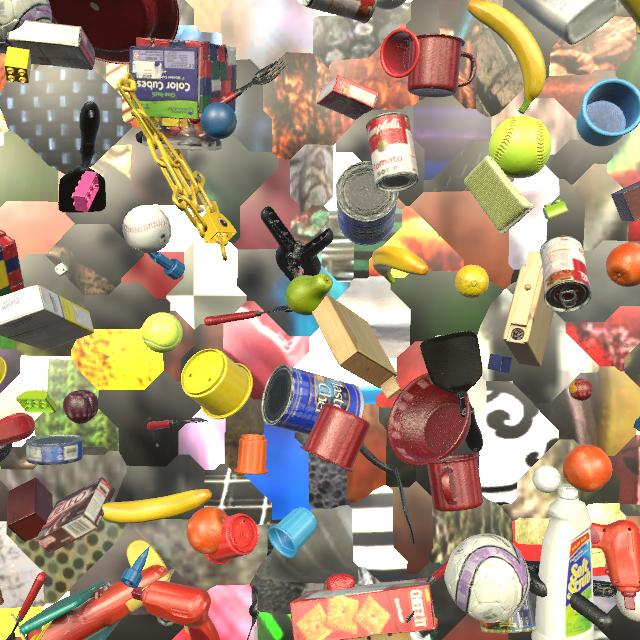ycb_002_master_chef_can: (261, 364, 364, 434), (335, 161, 399, 245)
ycb_003_cracker_box: (290, 578, 436, 640)
ycb_004_sugar_box: (0, 285, 94, 350)
ycb_005_tomato_soup_can: (366, 112, 419, 192), (540, 236, 592, 312), (303, 0, 377, 23)
ycb_007_tuna_fish_can: (26, 434, 83, 465)
ycb_008_pudding_box: (35, 477, 116, 553), (7, 20, 95, 70), (0, 585, 4, 605)
ycb_009_gelatin_box: (317, 75, 379, 120)
ycb_010_potted_meat_can: (480, 591, 537, 634)
ycb_011_banana: (467, 0, 546, 114), (102, 489, 212, 524), (372, 246, 429, 284)
ycb_012_strawberry: (323, 573, 355, 591)
ycb_014_lemon: (455, 265, 489, 298)
ycb_016_pear: (285, 273, 333, 316)
ycb_017_orange: (563, 445, 612, 492), (186, 506, 228, 554), (606, 242, 640, 287)
ycb_018_plum: (63, 390, 99, 424)
